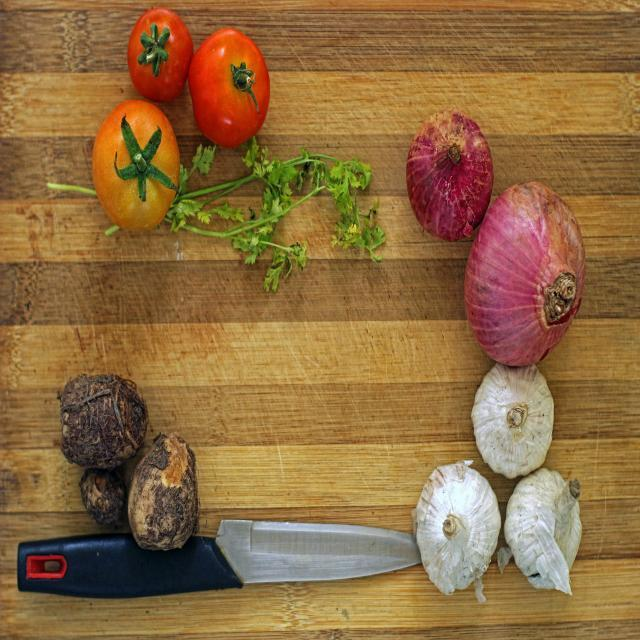knife: (17, 519, 420, 597)
